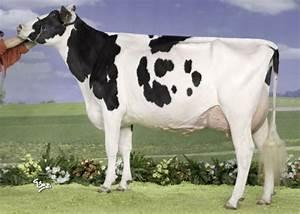cow: (16, 1, 288, 208)
